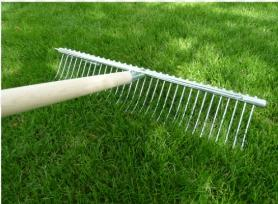RATEAU: (1, 7, 276, 177)
